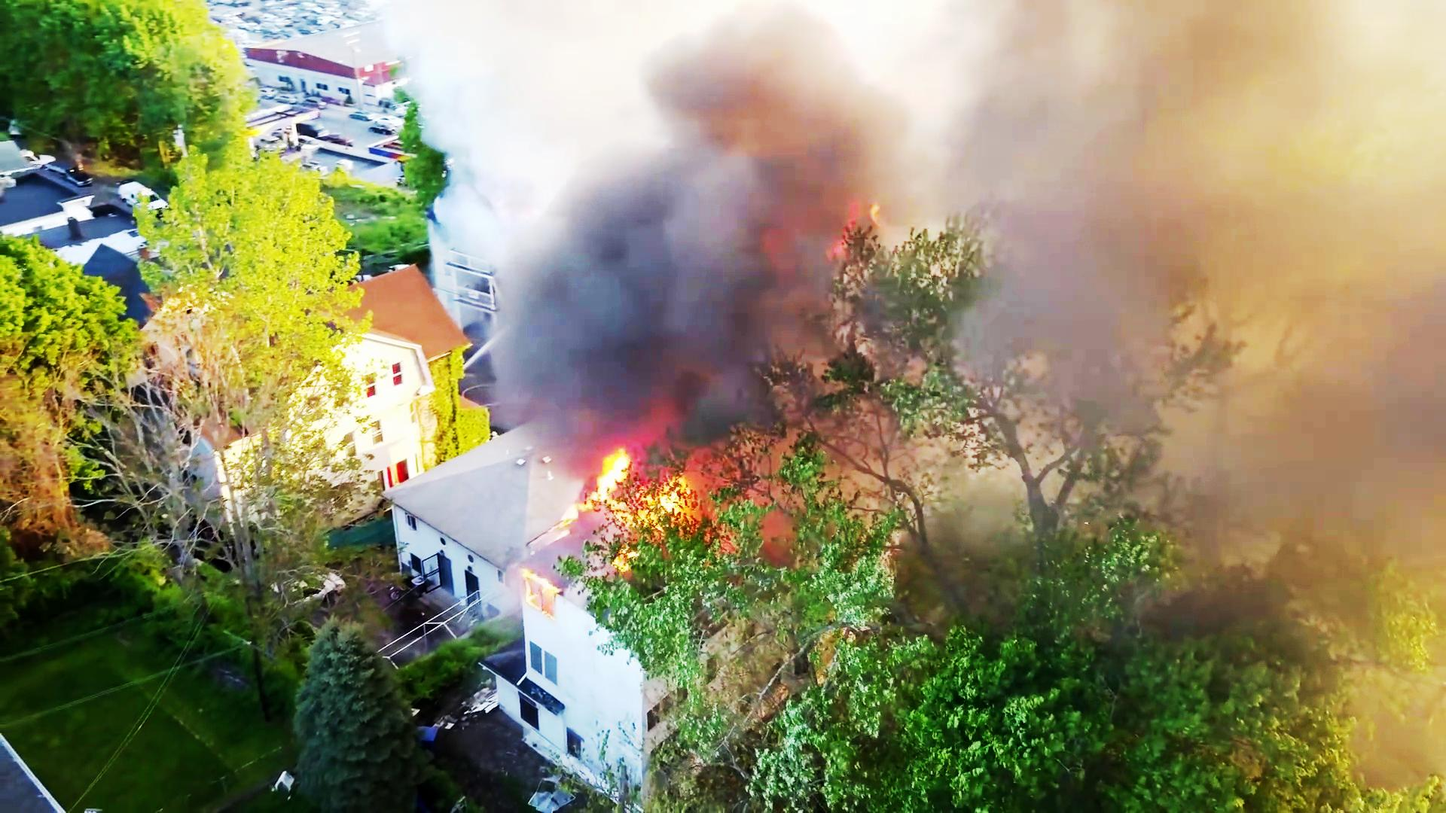fire: (592, 446, 688, 515)
smoke: (501, 70, 778, 407)
